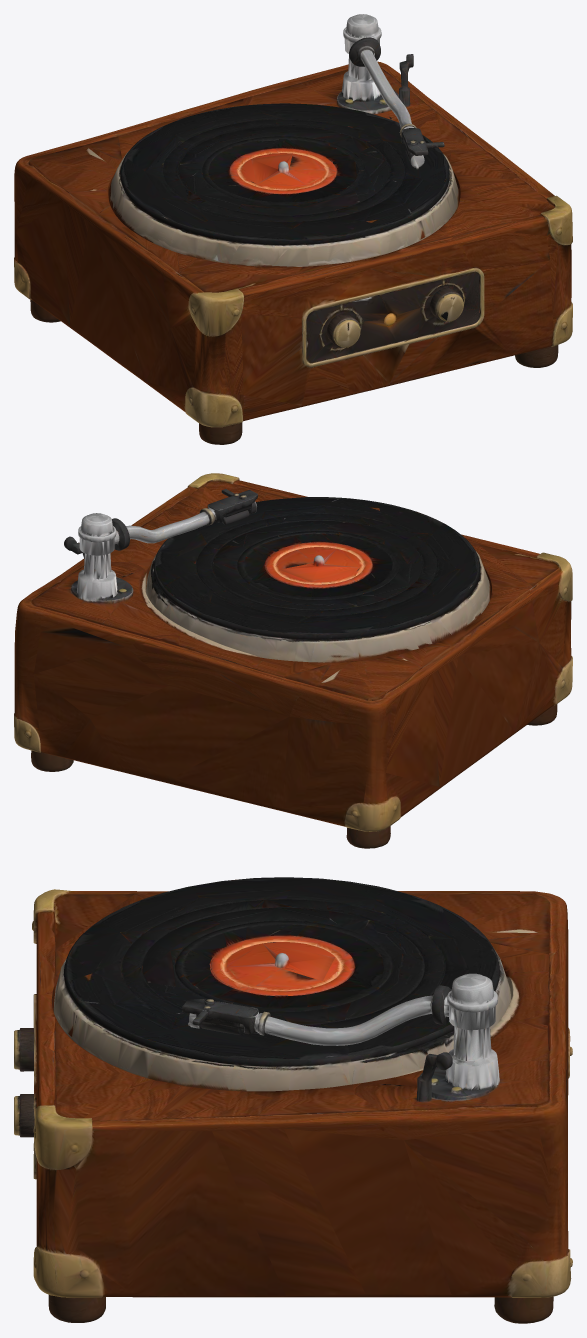
File: turntable.glb
3 views of the same model, one above another, from view 1: azimuth 30°, elevation 25°; view 2: azimuth 150°, elevation 25°; view 3: azimuth 270°, elevation 25° (orthographic). The views are drawn at different scales.
Parts seen in each view (by area): view 1: Mesh_0; view 2: Mesh_0; view 3: Mesh_0.
Boxes of the visible parts, box(x1,y1,x2,y2) form: Mesh_0: box(14, 14, 572, 444); Mesh_0: box(14, 473, 572, 848); Mesh_0: box(14, 877, 572, 1323).
Size of the model in its own units: 1 by 0.6148 by 0.973.
Materials: 1 (1 with a texture image).
